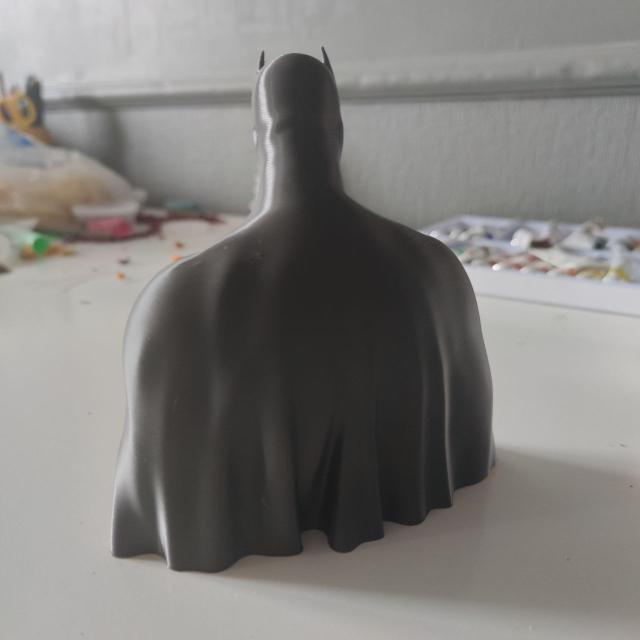Without deffect: (88, 28, 511, 580)
